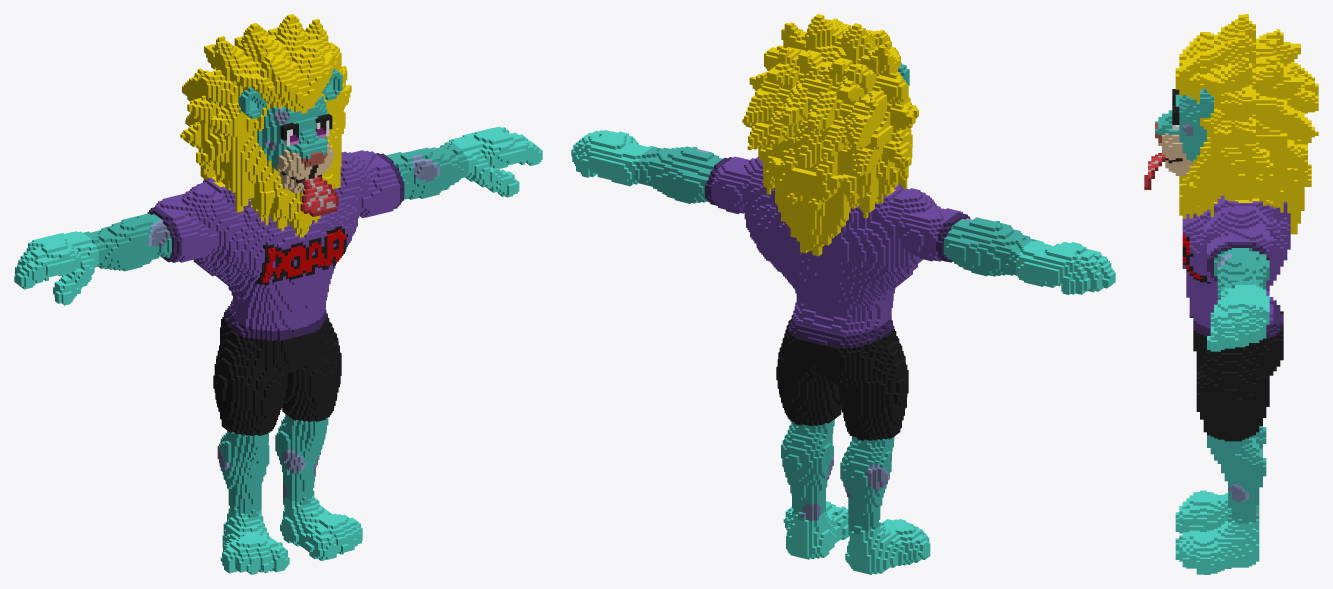
Rendered from 903-BEiWaCzf.glb.
The picture shows the model from 3 angles, left to right: view 1: azimuth 30°, elevation 25°; view 2: azimuth 150°, elevation 25°; view 3: azimuth 270°, elevation 25°; orthographic projection. The views are drawn at different scales.
Visible parts, largest first — view 1: meat; view 2: meat; view 3: meat.
Part boxes in pixels (bbox=[...]): meat: bbox=[14, 14, 542, 574]; meat: bbox=[571, 14, 1115, 574]; meat: bbox=[1144, 14, 1318, 574].
Size of the model in its own units: 17.2 by 16.5 by 5.
Materials: 5 (5 with a texture image).
